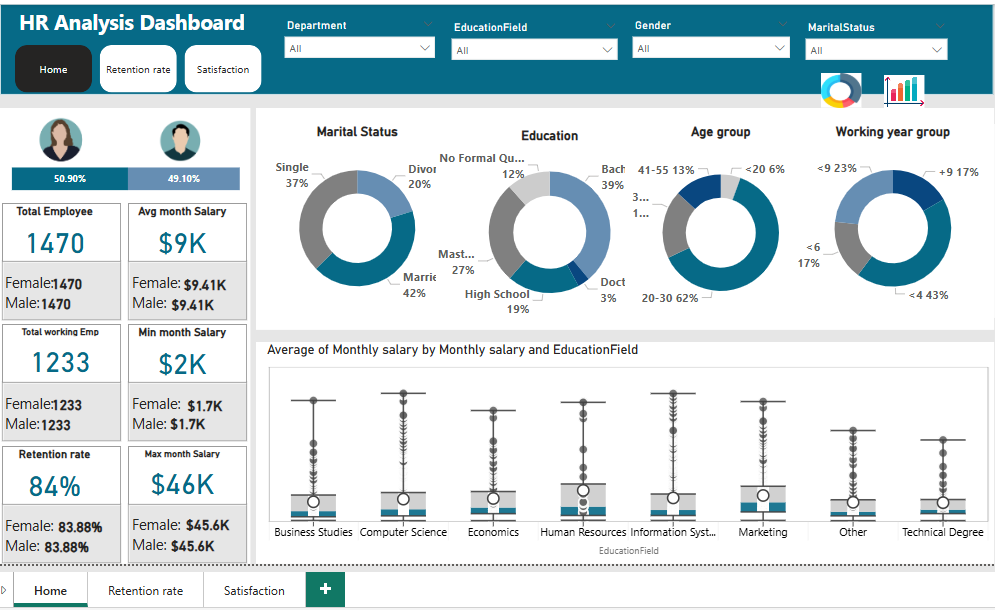

What the dashboard file says about the page in this screenshot:
{"tool":"powerbi","page":{"name":"Home","canvas":[1280,720],"ordinal":0},"visuals":[{"type":"shape","box":[0,133.5,323.3,586.5],"z":0},{"type":"group","id":"g1","title":"Group 3","box":[331.4,153.7,949,260.6],"z":0,"group":"g14"},{"type":"donutChart","title":"Marital Status","fields":{"Category":["Employee.MaritalStatus"],"Y":["CountNonNull(Employee.EmployeeID)"]},"box":[331.4,153.7,257.8,249.1],"z":0,"group":"g1"},{"type":"shape","box":[4,256,153.1,75.8],"z":0,"group":"g8"},{"type":"shape","box":[165.6,256,153.1,75.8],"z":0,"group":"g9"},{"type":"card","fields":{"Values":["Avg(Employee.Monthly salary)"]},"box":[217.3,342.5,92.1,36.2],"z":0,"group":"g2"},{"type":"card","fields":{"Values":["CountNonNull(Employee.Gender)"]},"box":[48.8,342.7,77.2,34.3],"z":0,"group":"g3"},{"type":"shape","box":[4,411.9,153.1,75.8],"z":0,"group":"g10"},{"type":"shape","box":[165.6,411.9,153.1,75.8],"z":0,"group":"g12"},{"type":"card","fields":{"Values":["Min(Employee.Monthly salary)"]},"box":[217.3,498.4,92.1,36.2],"z":0,"group":"g4"},{"type":"card","fields":{"Values":["Employee.Active No of Employees Per Year"]},"box":[48.8,498.6,77.2,34.3],"z":0,"group":"g5"},{"type":"shape","box":[4,567.8,153.1,75.8],"z":0,"group":"g11"},{"type":"shape","box":[165.6,567.8,153.1,75.8],"z":0,"group":"g13"},{"type":"card","fields":{"Values":["Max(Employee.Monthly salary)"]},"box":[222.2,652,91.5,37.2],"z":0,"group":"g6"},{"type":"card","fields":{"Values":["Employee.Staying %"]},"box":[48.8,654.7,111.6,34.3],"z":0,"group":"g7"},{"type":"shape","box":[1.4,0,1277.3,116.6],"z":1000},{"type":"donutChart","title":"Education","fields":{"Y":["CountNonNull(Employee.EmployeeID)"],"Category":["EducationLevel.EducationLevel"]},"box":[561.8,159.5,292.3,249.1],"z":1000,"group":"g1"},{"type":"shape","box":[4,330.7,153.1,75.8],"z":1000,"group":"g8"},{"type":"shape","box":[165.6,330.7,153.1,75.8],"z":1000,"group":"g9"},{"type":"card","fields":{"Values":["CountNonNull(Employee.Gender)"]},"box":[38.8,366.2,68.6,40],"z":1000,"group":"g3"},{"type":"card","fields":{"Values":["Avg(Employee.Monthly salary)"]},"box":[202.1,368.5,91.5,37.2],"z":1000,"group":"g2"},{"type":"shape","box":[4,486.6,153.1,75.8],"z":1000,"group":"g10"},{"type":"shape","box":[165.6,486.6,153.1,75.8],"z":1000,"group":"g12"},{"type":"card","fields":{"Values":["Min(Employee.Monthly salary)"]},"box":[196.4,521.7,91.5,37.2],"z":1000,"group":"g4"},{"type":"card","fields":{"Values":["Employee.Active No of Employees Per Year"]},"box":[38.8,522.1,68.6,40],"z":1000,"group":"g5"},{"type":"shape","box":[4,642.5,153.1,75.8],"z":1000,"group":"g11"},{"type":"shape","box":[165.6,642.5,153.1,75.8],"z":1000,"group":"g13"},{"type":"card","fields":{"Values":["Employee.Staying %"]},"box":[53.1,677.6,68.6,40],"z":1000,"group":"g7"},{"type":"card","fields":{"Values":["Max(Employee.Monthly salary)"]},"box":[202.1,679.3,91.5,37.2],"z":1000,"group":"g6"},{"type":"donutChart","title":"Age group","fields":{"Y":["CountNonNull(Employee.EmployeeID)"],"Category":["Employee.AgeRange"]},"box":[805.2,153.7,246.2,260.6],"z":2000,"group":"g1"},{"type":"card","title":"Total Employee","fields":{"Values":["CountNonNull(Employee.EmployeeID)"]},"box":[0,258.9,143,74.4],"z":2000,"group":"g8"},{"type":"card","title":"Avg month Salary","fields":{"Values":["Avg(Employee.Monthly salary)"]},"box":[161.6,258.9,147.3,74.4],"z":2000,"group":"g9"},{"type":"textbox","box":[165,340.4,95,63.7],"z":2000,"group":"g2"},{"type":"textbox","box":[3.1,340.5,94.4,62.9],"z":2000,"group":"g3"},{"type":"card","title":"Min month Salary","fields":{"Values":["Min(Employee.Monthly salary)"]},"box":[161.6,414.8,147.3,74.4],"z":2000,"group":"g12"},{"type":"card","title":"Total working Emp","fields":{"Values":["Employee.Active No of Employees Per Year"]},"box":[0,414.9,157.3,74.4],"z":2000,"group":"g10"},{"type":"shape","box":[331,434.9,949,285.1],"z":2000},{"type":"textbox","box":[165,496.3,95,63.7],"z":2000,"group":"g4"},{"type":"textbox","box":[3.1,496.4,94.4,62.9],"z":2000,"group":"g5"},{"type":"card","title":"Max month Salary","fields":{"Values":["Max(Employee.Monthly salary)"]},"box":[161.6,570.7,147.3,74.4],"z":2000,"group":"g13"},{"type":"card","title":"Retention rate","fields":{"Values":["Employee.Staying %"]},"box":[0,571,143,74.4],"z":2000,"group":"g11"},{"type":"textbox","box":[165,652.2,95,63.7],"z":2000,"group":"g6"},{"type":"textbox","box":[3.1,652.3,94.4,62.9],"z":2000,"group":"g7"},{"type":"shape","box":[331,133.9,949,285.1],"z":3000},{"type":"donutChart","title":"Working year group","fields":{"Y":["CountNonNull(Employee.EmployeeID)"],"Category":["Employee.Working year group"]},"box":[1018.3,153.7,262.1,249.1],"z":3000,"group":"g1"},{"type":"group","id":"g2","title":"Group 1","box":[165,340.4,144.4,65.2],"z":3000,"group":"g9"},{"type":"group","id":"g3","title":"Group 1","box":[3.1,340.5,122.9,65.8],"z":3000,"group":"g8"},{"type":"group","id":"g4","title":"Group 1","box":[165,496.3,144.4,63.7],"z":3000,"group":"g12"},{"type":"group","id":"g5","title":"Group 1","box":[3.1,496.4,122.9,65.8],"z":3000,"group":"g10"},{"type":"group","id":"g6","title":"Group 1","box":[165,652,148.7,64.5],"z":3000,"group":"g13"},{"type":"group","id":"g7","title":"Group 1","box":[3.1,652.3,157.2,65.3],"z":3000,"group":"g11"},{"type":"slicer","fields":{"Values":["Employee.EducationField"]},"box":[571.7,17.3,233.3,63.4],"z":4000},{"type":"slicer","fields":{"Values":["Employee.Gender"]},"box":[805,14.4,221.8,61.9],"z":5000},{"type":"slicer","fields":{"Values":["Employee.MaritalStatus"]},"box":[1026.7,17.3,201.6,63.4],"z":6000},{"type":"textbox","box":[20.2,0,318.2,51.8],"z":7000},{"type":"slicer","fields":{"Values":["Employee.Department"]},"box":[357.1,14.4,213.1,61.9],"z":8000},{"type":"group","id":"g8","title":"Group 2","box":[0,256,157.1,150.5],"z":9000},{"type":"group","id":"g9","title":"Group 2","box":[161.6,256,157.1,150.5],"z":10000},{"type":"group","id":"g10","title":"Group 2","box":[0,411.9,157.3,150.5],"z":11000},{"type":"group","id":"g11","title":"Group 2","box":[0,567.8,160.3,150.5],"z":12000},{"type":"image","box":[37.4,141.1,83.5,66.2],"z":13000},{"type":"image","box":[200.2,144,64.8,63.4],"z":14000},{"type":"barChart","fields":{"Series":["Employee.Gender"],"Y":["CountNonNull(Employee.Gender)"]},"box":[11.4,158.7,303.2,127.3],"z":15000},{"type":"group","id":"g12","title":"Group 2","box":[161.6,411.9,157.1,150.5],"z":16000},{"type":"group","id":"g13","title":"Group 2","box":[161.6,567.8,157.1,150.5],"z":17000},{"type":"BoxandWhiskerByMAQ1823AD39DT234AB532063E128AX","fields":{"categoryGroup":["Employee.EducationField","Employee.Department","Employee.JobRole"],"category":["Employee.Monthly salary"],"measure":["Avg(Employee.Monthly salary)"]},"box":[339.3,434.6,939.2,285.8],"z":18000},{"type":"group","id":"g14","title":"Group 1","box":[331.4,153.7,948.6,259.4],"z":19000},{"type":"actionButton","box":[1056.4,89,52.4,44.5],"z":21000},{"type":"actionButton","box":[1137.6,91.6,52.4,43.2],"z":22000},{"type":"pageNavigator","box":[20.8,52.1,318.5,61],"z":23000}]}

Visuals, with their boxes on the page's 1280x720 design canvas (x1, y1, x2, y2). These are canvas units, not pixel positions in the 995x610 screenshot, which may show the page scaled, cropped or inside an application window:
shape: [0, 134, 323, 720]
"Group 3" group: [331, 154, 1280, 414]
"Marital Status" donutChart: [331, 154, 589, 403]
shape: [4, 256, 157, 332]
shape: [166, 256, 319, 332]
card - Avg(Employee.Monthly salary): [217, 342, 309, 379]
card - CountNonNull(Employee.Gender): [49, 343, 126, 377]
shape: [4, 412, 157, 488]
shape: [166, 412, 319, 488]
card - Min(Employee.Monthly salary): [217, 498, 309, 535]
card - Employee.Active No of Employees Per Year: [49, 499, 126, 533]
shape: [4, 568, 157, 644]
shape: [166, 568, 319, 644]
card - Max(Employee.Monthly salary): [222, 652, 314, 689]
card - Employee.Staying %: [49, 655, 160, 689]
shape: [1, 0, 1279, 117]
"Education" donutChart: [562, 160, 854, 409]
shape: [4, 331, 157, 406]
shape: [166, 331, 319, 406]
card - CountNonNull(Employee.Gender): [39, 366, 107, 406]
card - Avg(Employee.Monthly salary): [202, 368, 294, 406]
shape: [4, 487, 157, 562]
shape: [166, 487, 319, 562]
card - Min(Employee.Monthly salary): [196, 522, 288, 559]
card - Employee.Active No of Employees Per Year: [39, 522, 107, 562]
shape: [4, 642, 157, 718]
shape: [166, 642, 319, 718]
card - Employee.Staying %: [53, 678, 122, 718]
card - Max(Employee.Monthly salary): [202, 679, 294, 716]
"Age group" donutChart: [805, 154, 1051, 414]
"Total Employee" card: [0, 259, 143, 333]
"Avg month Salary" card: [162, 259, 309, 333]
textbox: [165, 340, 260, 404]
textbox: [3, 340, 98, 403]
"Min month Salary" card: [162, 415, 309, 489]
"Total working Emp" card: [0, 415, 157, 489]
shape: [331, 435, 1280, 720]
textbox: [165, 496, 260, 560]
textbox: [3, 496, 98, 559]
"Max month Salary" card: [162, 571, 309, 645]
"Retention rate" card: [0, 571, 143, 645]
textbox: [165, 652, 260, 716]
textbox: [3, 652, 98, 715]
shape: [331, 134, 1280, 419]
"Working year group" donutChart: [1018, 154, 1280, 403]
"Group 1" group: [165, 340, 309, 406]
"Group 1" group: [3, 340, 126, 406]
"Group 1" group: [165, 496, 309, 560]
"Group 1" group: [3, 496, 126, 562]
"Group 1" group: [165, 652, 314, 716]
"Group 1" group: [3, 652, 160, 718]
slicer - Employee.EducationField: [572, 17, 805, 81]
slicer - Employee.Gender: [805, 14, 1027, 76]
slicer - Employee.MaritalStatus: [1027, 17, 1228, 81]
textbox: [20, 0, 338, 52]
slicer - Employee.Department: [357, 14, 570, 76]
"Group 2" group: [0, 256, 157, 406]
"Group 2" group: [162, 256, 319, 406]
"Group 2" group: [0, 412, 157, 562]
"Group 2" group: [0, 568, 160, 718]
image: [37, 141, 121, 207]
image: [200, 144, 265, 207]
barChart - Employee.Gender x CountNonNull(Employee.Gender): [11, 159, 315, 286]
"Group 2" group: [162, 412, 319, 562]
"Group 2" group: [162, 568, 319, 718]
BoxandWhiskerByMAQ1823AD39DT234AB532063E128AX - Employee.EducationField x Employee.Department: [339, 435, 1278, 720]
"Group 1" group: [331, 154, 1280, 413]
actionButton: [1056, 89, 1109, 134]
actionButton: [1138, 92, 1190, 135]
pageNavigator: [21, 52, 339, 113]
